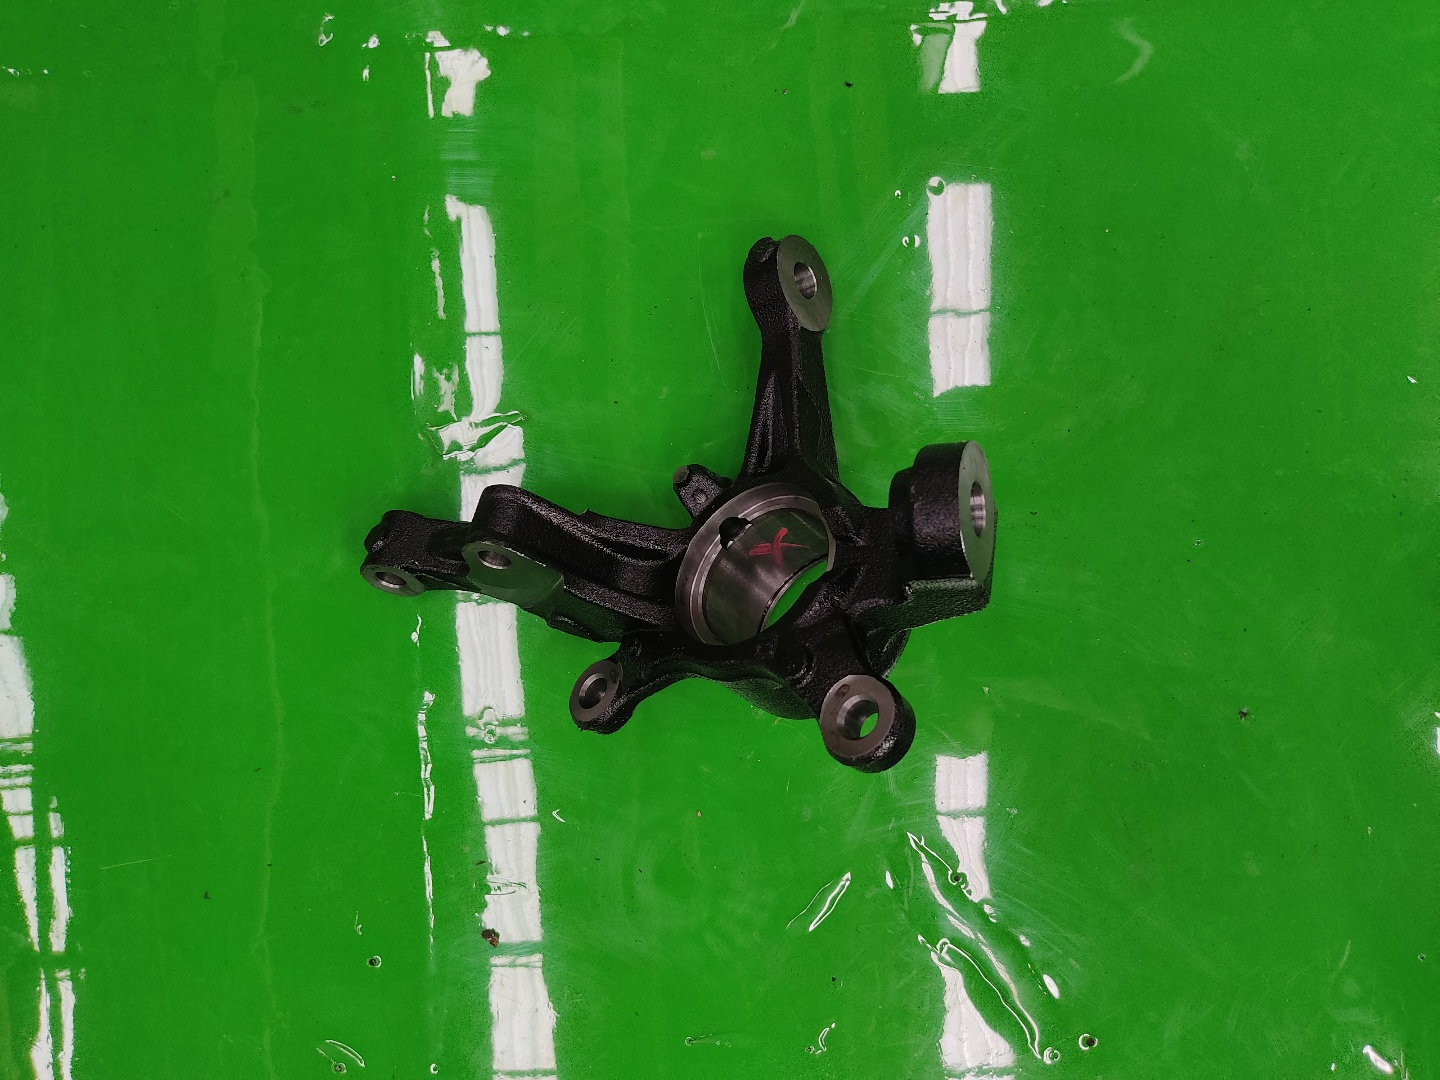abs-rh: (345, 221, 1013, 809)
